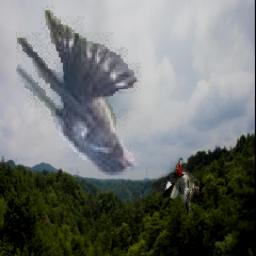Swallow: (15, 7, 140, 177)
Woodpecker: (150, 159, 198, 215)
